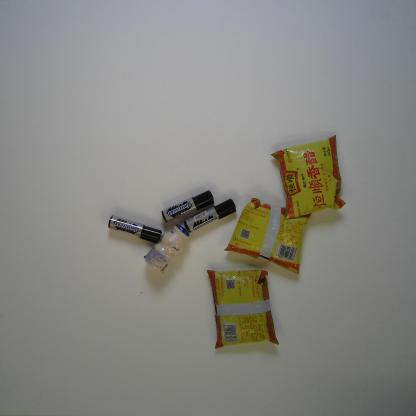Milk: (143, 224, 190, 274)
Seasoner: (224, 197, 311, 275), (270, 134, 346, 221), (207, 268, 280, 350)
Stationery: (161, 189, 215, 224), (183, 198, 237, 233), (108, 215, 162, 244)
